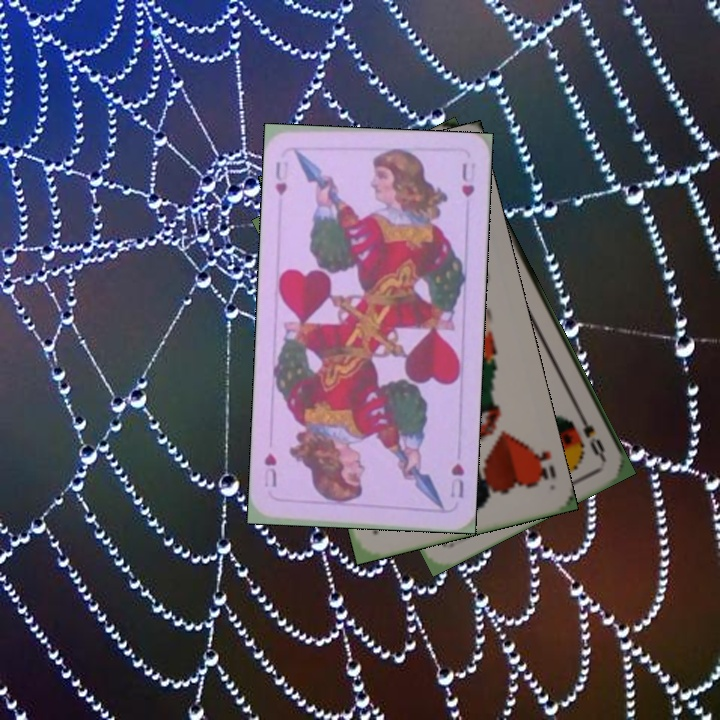HO: (525, 438, 559, 488)
HU: (446, 459, 467, 500), (271, 157, 290, 198)
SO: (573, 406, 608, 462)
